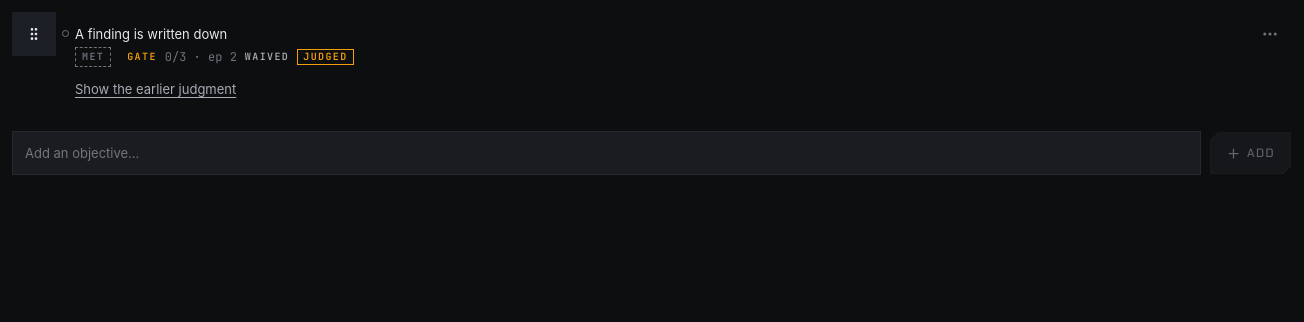
Scenario: waived AFTER a verdict: the waiver is the state; the judgment is history only
The image size is (1304, 322).
Expected: the text with test id "objective-state" reads "waived", [245,50,289,63]
Click the button with test id "objective-evidence-toggle" at (156, 89), box [75,67,236,111]
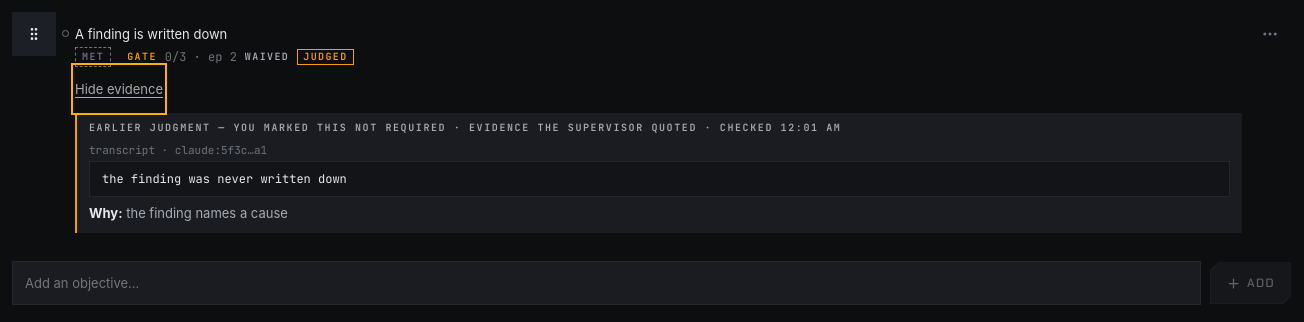
Expected: the element with test id "objective-evidence" shows "Earlier judgment — you marked this not required", [89,121,469,134]
